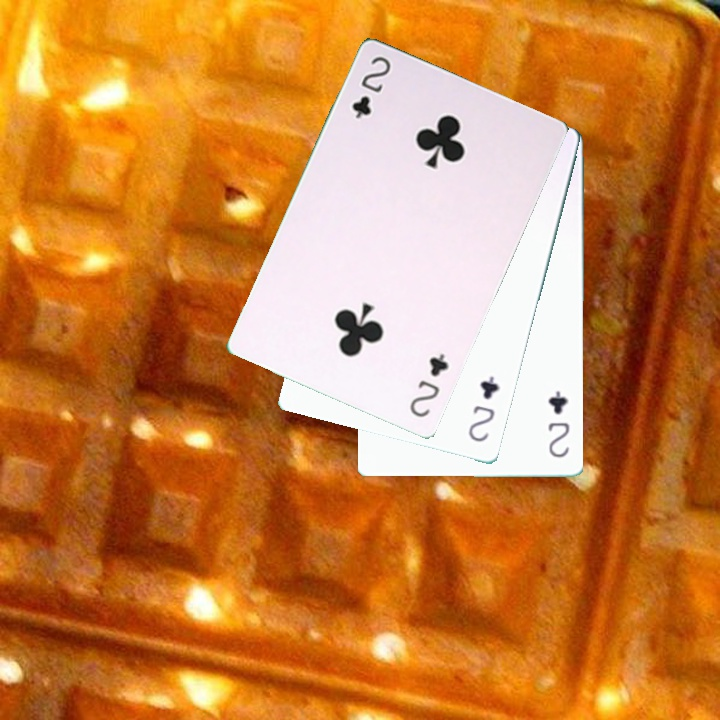2c: (405, 349, 451, 420), (348, 51, 394, 121), (464, 372, 503, 445), (544, 387, 572, 460)
